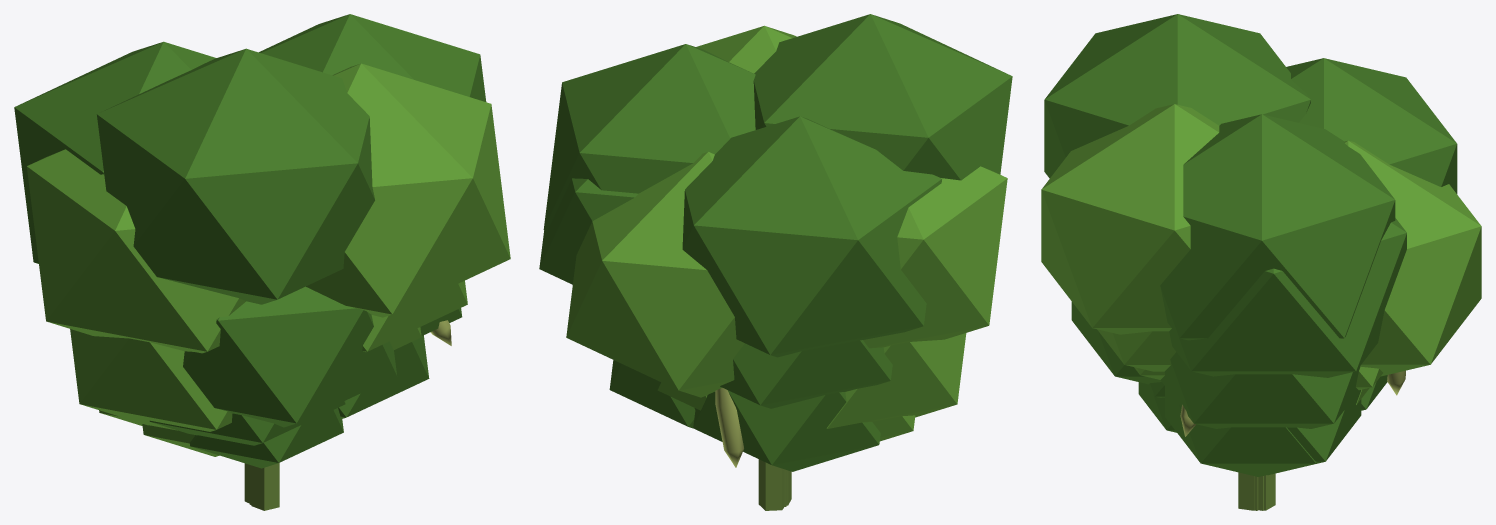
File: Crop_Veg_RedBean.fbx
The picture shows the model from 3 angles, left to right: view 1: azimuth 30°, elevation 25°; view 2: azimuth 150°, elevation 25°; view 3: azimuth 270°, elevation 25°; orthographic projection. The views are drawn at different scales.
Visible parts, largest first — view 1: Crop_Veg_RedBean__S4, Crop_Veg_RedBean__S3, Crop_Veg_RedBean__S5, Crop_Veg_RedBean__S2, Crop_Veg_RedBean__S1; view 2: Crop_Veg_RedBean__S4, Crop_Veg_RedBean__S3, Crop_Veg_RedBean__S5, Crop_Veg_RedBean__S2; view 3: Crop_Veg_RedBean__S4, Crop_Veg_RedBean__S3, Crop_Veg_RedBean__S5, Crop_Veg_RedBean__S2, Crop_Veg_RedBean__S1.
Part boxes in pixels (box(x1,y1,x2,y2)): Crop_Veg_RedBean__S4: box(14, 14, 510, 504); Crop_Veg_RedBean__S3: box(70, 280, 467, 501); Crop_Veg_RedBean__S5: box(99, 327, 429, 445); Crop_Veg_RedBean__S2: box(142, 408, 343, 503); Crop_Veg_RedBean__S1: box(251, 463, 279, 510); Crop_Veg_RedBean__S4: box(539, 14, 1012, 506); Crop_Veg_RedBean__S3: box(720, 333, 966, 510); Crop_Veg_RedBean__S5: box(609, 360, 915, 510); Crop_Veg_RedBean__S2: box(657, 382, 784, 508); Crop_Veg_RedBean__S4: box(1041, 14, 1481, 510); Crop_Veg_RedBean__S3: box(1071, 302, 1360, 428); Crop_Veg_RedBean__S5: box(1134, 366, 1387, 510); Crop_Veg_RedBean__S2: box(1138, 382, 1369, 510); Crop_Veg_RedBean__S1: box(1238, 472, 1254, 510).
Size of the model in its own units: 0.17 by 0.1832 by 0.1573.
